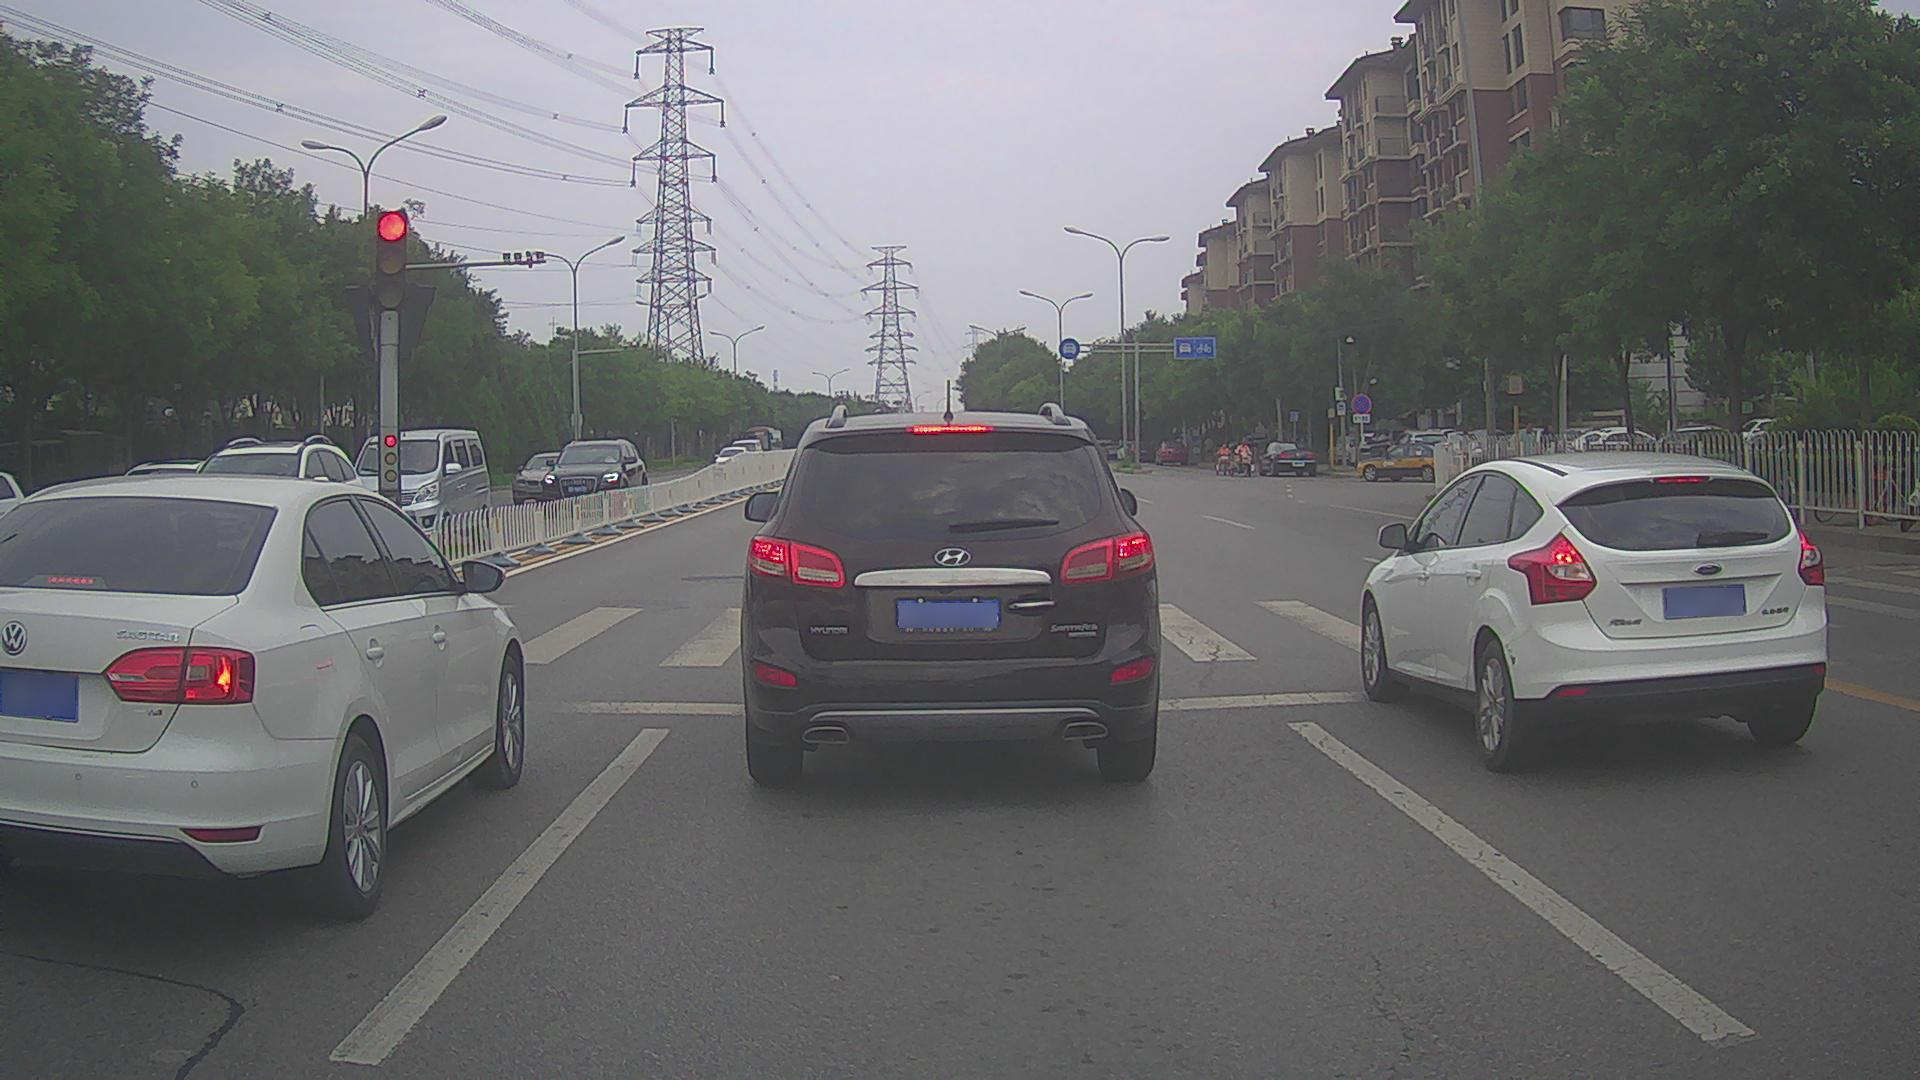bus: (741, 425, 784, 466)
car: (2, 472, 528, 921), (739, 400, 1162, 788), (1358, 449, 1829, 774), (540, 437, 650, 518), (1353, 436, 1470, 483), (510, 451, 591, 507), (1652, 425, 1741, 463), (1256, 439, 1319, 477), (1346, 431, 1388, 467), (713, 445, 752, 476), (1324, 434, 1357, 466), (1152, 439, 1189, 467), (1125, 441, 1153, 463), (1114, 439, 1142, 462)
ignore: (122, 433, 365, 489), (1358, 425, 1658, 462), (1740, 416, 1773, 452), (1097, 438, 1122, 461), (731, 438, 763, 452)
pedestrian: (1517, 421, 1538, 481), (1538, 423, 1559, 474), (1373, 429, 1393, 467), (1369, 429, 1381, 457), (1203, 434, 1215, 462), (1191, 443, 1201, 462)
tricyclelist: (1226, 440, 1253, 478), (1214, 441, 1233, 476)
truck: (1, 427, 106, 499)
van: (348, 427, 492, 556)
